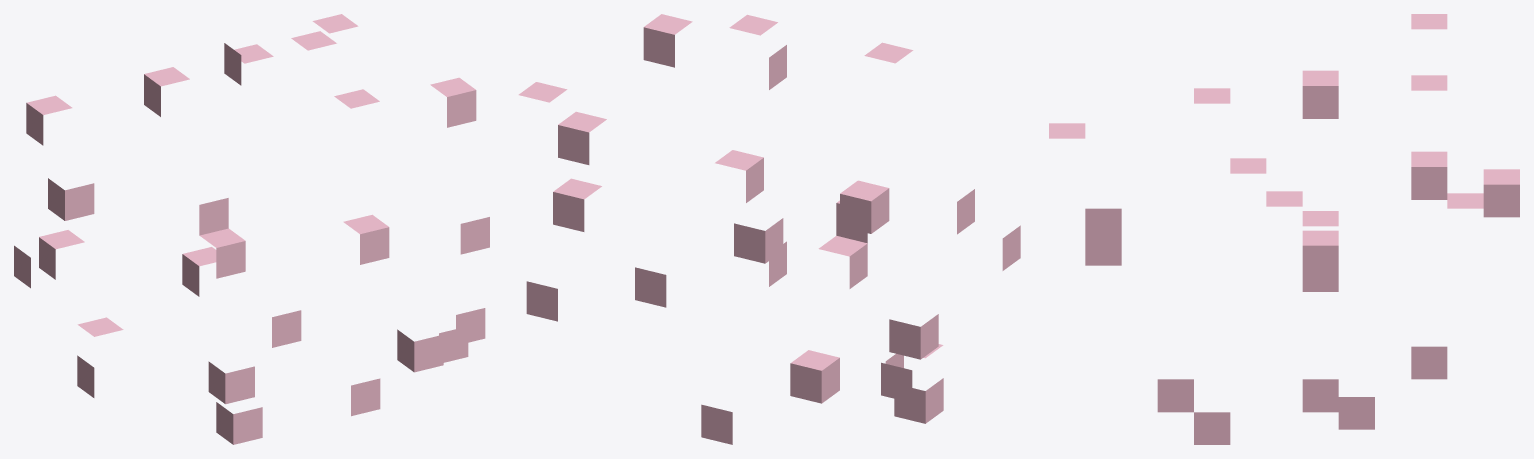
The model's file is tree-cherry-1p3-white-ffc9dc.gltf.
3 renders of one model, left to right at view 1: azimuth 30°, elevation 25°; view 2: azimuth 150°, elevation 25°; view 3: azimuth 270°, elevation 25°, orthographic. The views are drawn at different scales.
Parts seen in each view (by area): view 1: tree-cherry-1p3-white-ffc9dc; view 2: tree-cherry-1p3-white-ffc9dc; view 3: tree-cherry-1p3-white-ffc9dc.
Boxes of the visible parts, x1,y1,x2,y2 form: tree-cherry-1p3-white-ffc9dc: (14,14,489,444); tree-cherry-1p3-white-ffc9dc: (518,14,1020,444); tree-cherry-1p3-white-ffc9dc: (1049,14,1519,444).
Bounding box in the file's own units: 14 × 11 × 13.
